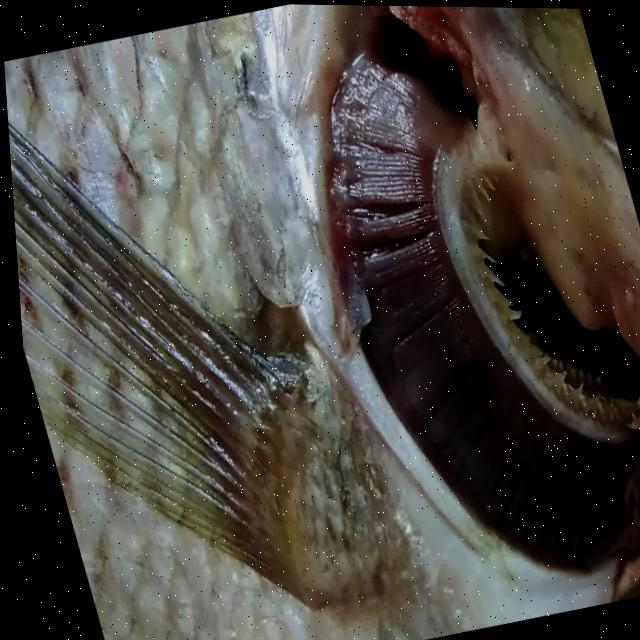Non-Fresh: (245, 3, 640, 595)
